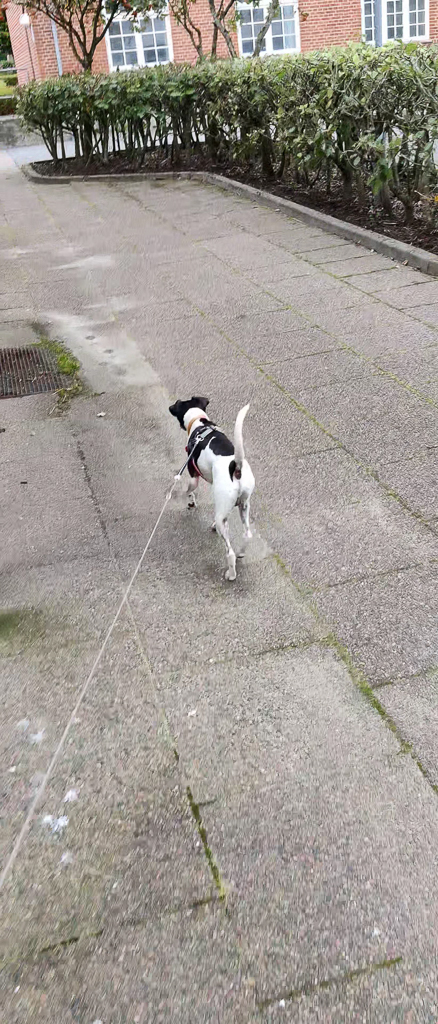Dog: (158, 388, 285, 590)
